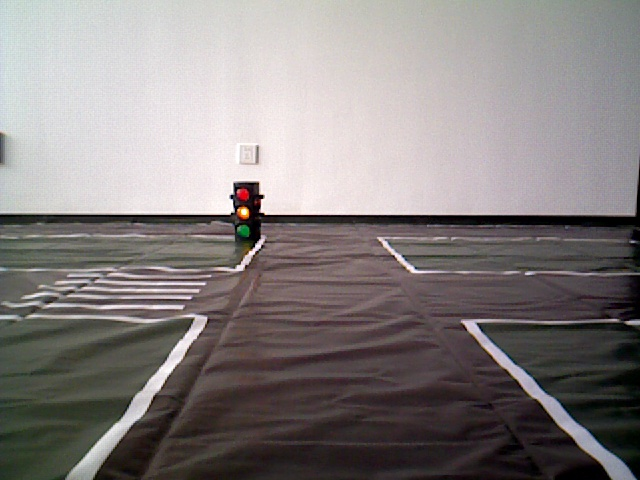yellow: (231, 183, 260, 243)
